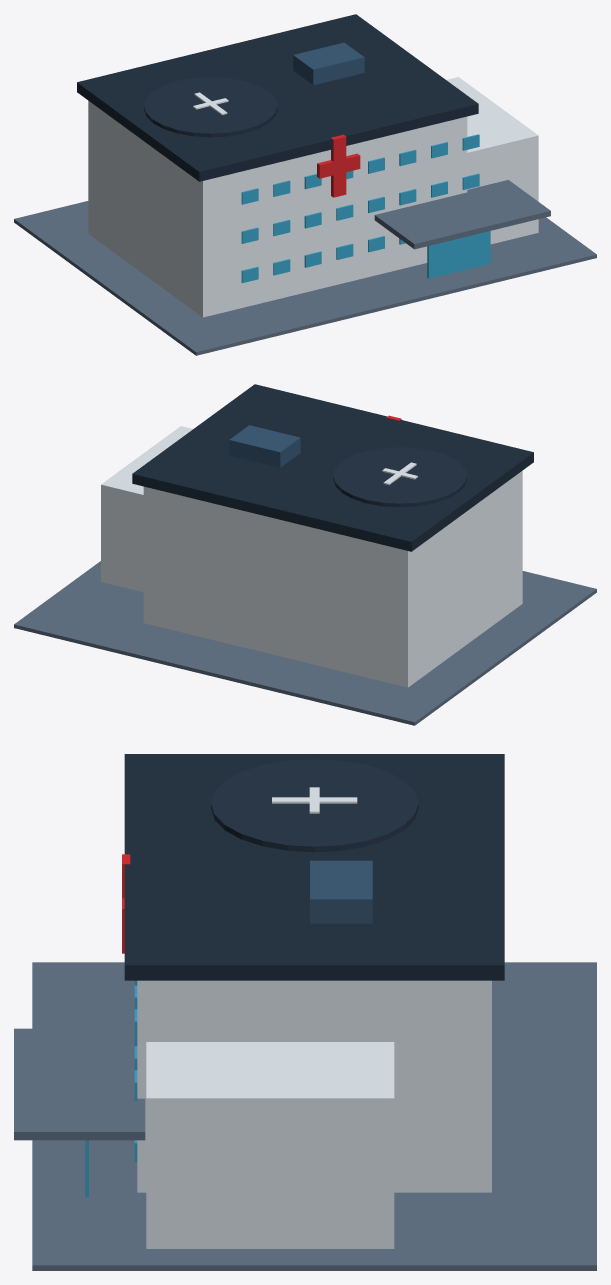
The model's file is hospital.obj.
3 views of the same model, one above another, from view 1: azimuth 30°, elevation 25°; view 2: azimuth 150°, elevation 25°; view 3: azimuth 270°, elevation 25° (orthographic). The views are drawn at different scales.
Parts seen in each view (by area): view 1: Main wing, Roof, Foundation, Emergency canopy, Helipad, Emergency wing, Window, Rooftop plant, Emergency entry, Cross vertical, Cross bar; view 2: Main wing, Roof, Foundation, Helipad, Emergency wing, Rooftop plant; view 3: Roof, Foundation, Emergency wing, Main wing, Helipad, Emergency canopy, Rooftop plant.
Boxes of the visible parts, x1,y1,x2,y2 form: Main wing: [88, 101, 467, 317]; Roof: [77, 14, 478, 181]; Foundation: [14, 201, 596, 355]; Emergency canopy: [374, 180, 550, 249]; Helipad: [144, 77, 277, 137]; Emergency wing: [446, 77, 538, 244]; Window: [241, 134, 479, 283]; Rooftop plant: [293, 42, 364, 85]; Emergency entry: [427, 231, 490, 278]; Cross vertical: [331, 134, 346, 197]; Cross bar: [317, 153, 360, 178]; Main wing: [143, 471, 522, 687]; Roof: [132, 384, 533, 551]; Foundation: [14, 561, 596, 725]; Helipad: [333, 447, 466, 507]; Emergency wing: [101, 426, 192, 592]; Rooftop plant: [229, 425, 300, 467]; Roof: [124, 754, 504, 980]; Foundation: [32, 962, 596, 1270]; Emergency wing: [146, 1042, 394, 1248]; Main wing: [137, 980, 491, 1192]; Helipad: [211, 759, 418, 852]; Emergency canopy: [14, 1028, 145, 1140]; Rooftop plant: [310, 860, 372, 923].
Bounding box in the file's own units: 9.4 × 3.81 × 7.64.
